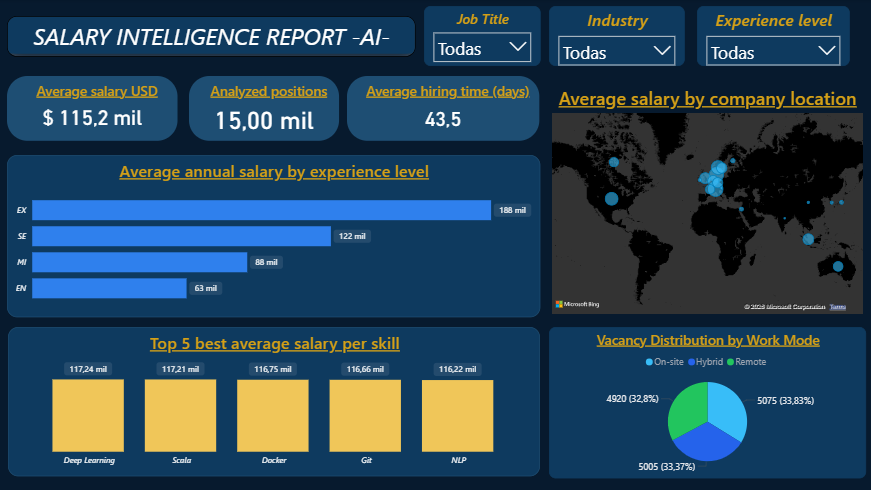

Layout of this report page (visuals, bound fields, positions):
{"tool":"powerbi","page":{"name":"Salary intelligence report","canvas":[1280,720],"ordinal":0},"visuals":[{"type":"textbox","title":"SALARY INTELLIGENCE REPORT -AI- ","box":[13,23,780.5,59],"z":0},{"type":"slicer","title":"Industry","fields":{"Values":["ai_job_analitics v_analisis_general.industry"]},"box":[806.4,10.1,198.7,105.1],"z":1000},{"type":"slicer","title":"Experience level","fields":{"Values":["ai_job_analitics v_analisis_general.experience_level"]},"box":[1022.4,10.1,224.6,105.1],"z":2000},{"type":"card","title":"Average salary USD","fields":{"Values":["Avg(ai_job_analitics v_analisis_general.salary_usd)"]},"box":[13.4,102.5,297.3,124.3],"z":3000},{"type":"textbox","box":[262,152.9,37,60.5],"z":4000},{"type":"card","title":"Analyzed positions","fields":{"Values":["CountNonNull(ai_job_analitics v_analisis_general.job_id)"]},"box":[325.9,102.5,258.7,124.3],"z":5000},{"type":"card","title":"Average hiring time (days)","fields":{"Values":["Avg(ai_job_analitics v_analisis_general.time_to_apply)"]},"box":[597.6,97.9,194.4,131],"z":6000},{"type":"clusteredBarChart","title":"Average annual salary by experience level","fields":{"Category":["ai_job_analitics v_analisis_general.experience_level"],"Y":["Avg(ai_job_analitics v_analisis_general.salary_usd)"]},"box":[13.4,243.6,779.4,248.6],"z":7000},{"type":"map","title":"Average salary by company location","fields":{"Category":["ai_job_analitics v_analisis_general.company_location"],"Size":["Avg(ai_job_analitics v_analisis_general.salary_usd)"]},"box":[806.3,126,465.3,341],"z":8000},{"type":"columnChart","title":"Top 5 best average salary per industry","fields":{"Category":["ai_job_analitics v_analisis_general.industry"],"Y":["Avg(ai_job_analitics v_analisis_general.salary_usd)"]},"box":[13.4,507.3,779.4,193.2],"z":9000},{"type":"pieChart","title":"Vacancy Distribution by Work Mode","fields":{"Y":["CountNonNull(ai_job_analitics v_analisis_general.job_id)"],"Category":["ai_job_analitics v_analisis_general.Work Mode"]},"box":[806.3,467,465.3,235.2],"z":10000}]}

Visuals, with their boxes in screenshot pixels (x1, y1, x2, y2), scaled from the page's 1280x720 canvas onto the 871x490 screenshot:
"SALARY INTELLIGENCE REPORT -AI- " textbox: select_region(9, 16, 540, 56)
"Industry" slicer: select_region(549, 7, 684, 78)
"Experience level" slicer: select_region(696, 7, 849, 78)
"Average salary USD" card: select_region(9, 70, 211, 154)
textbox: select_region(178, 104, 203, 145)
"Analyzed positions" card: select_region(222, 70, 398, 154)
"Average hiring time (days)" card: select_region(407, 67, 539, 156)
"Average annual salary by experience level" clusteredBarChart: select_region(9, 166, 539, 335)
"Average salary by company location" map: select_region(549, 86, 865, 318)
"Top 5 best average salary per industry" columnChart: select_region(9, 345, 539, 477)
"Vacancy Distribution by Work Mode" pieChart: select_region(549, 318, 865, 478)
